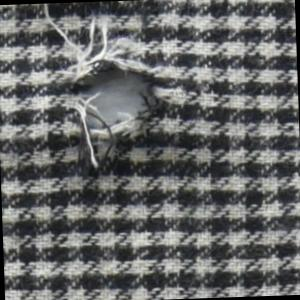Damage: (24, 1, 207, 205)
